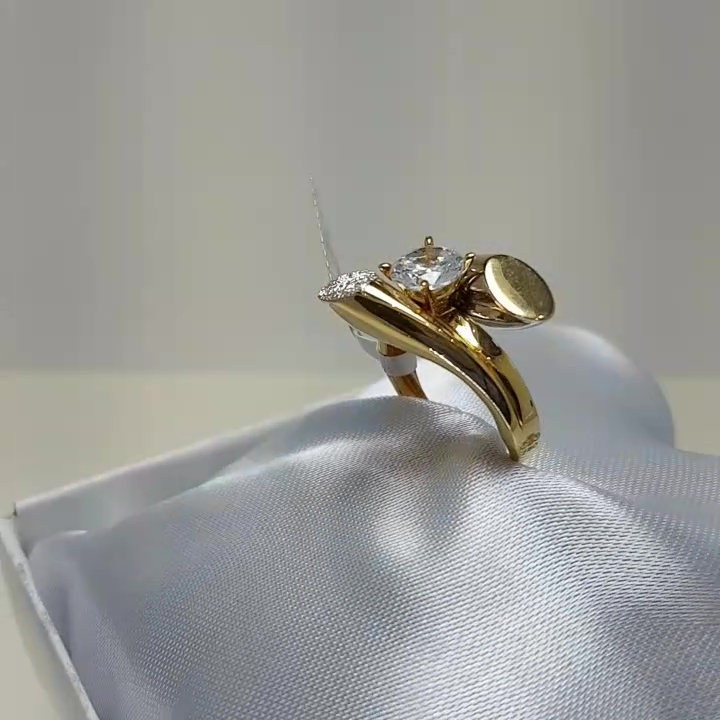Ring 7: (290, 230, 574, 474)
